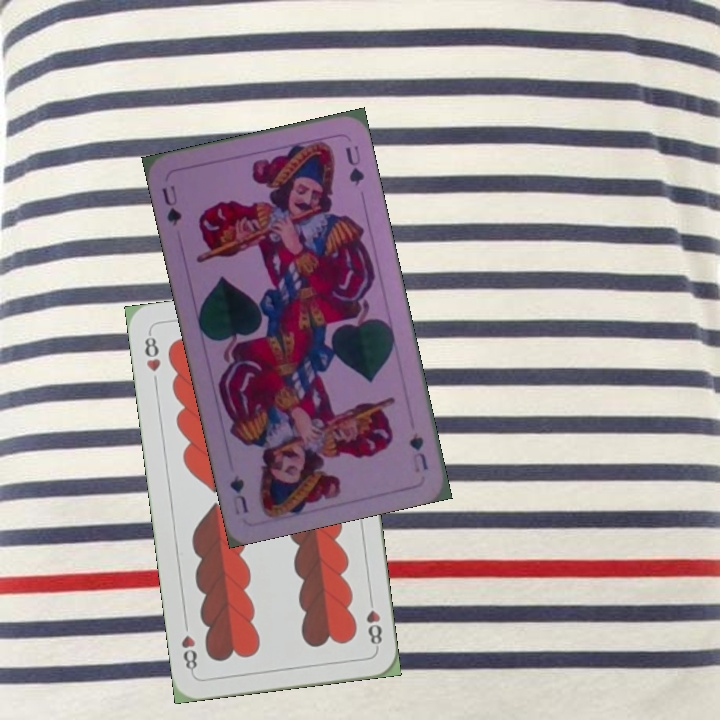GU: (158, 181, 185, 229), (405, 429, 431, 476)
H8: (362, 593, 385, 652), (141, 328, 163, 374)
